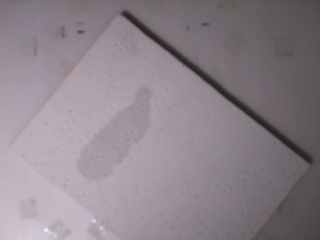Water_detected: (82, 103, 147, 166)
